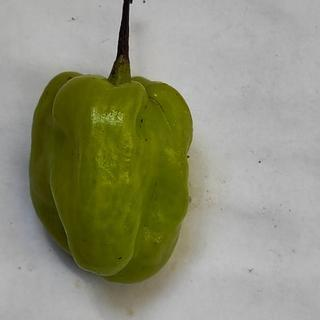Grade-A: (21, 63, 196, 284)
